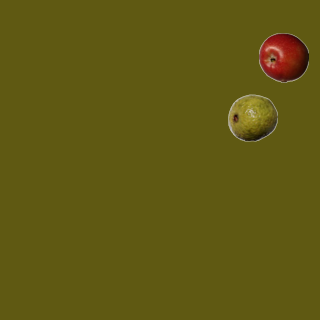Apple Braeburn: (258, 32, 308, 82)
Guava: (227, 92, 277, 142)
